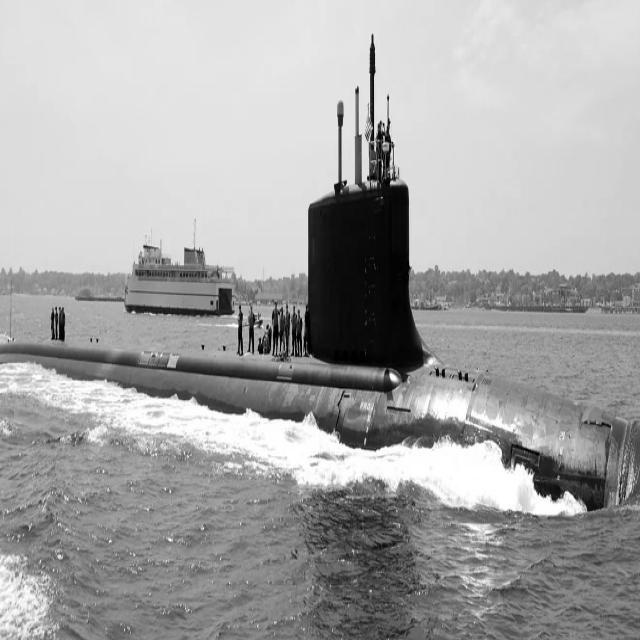submarine: (1, 17, 640, 522)
